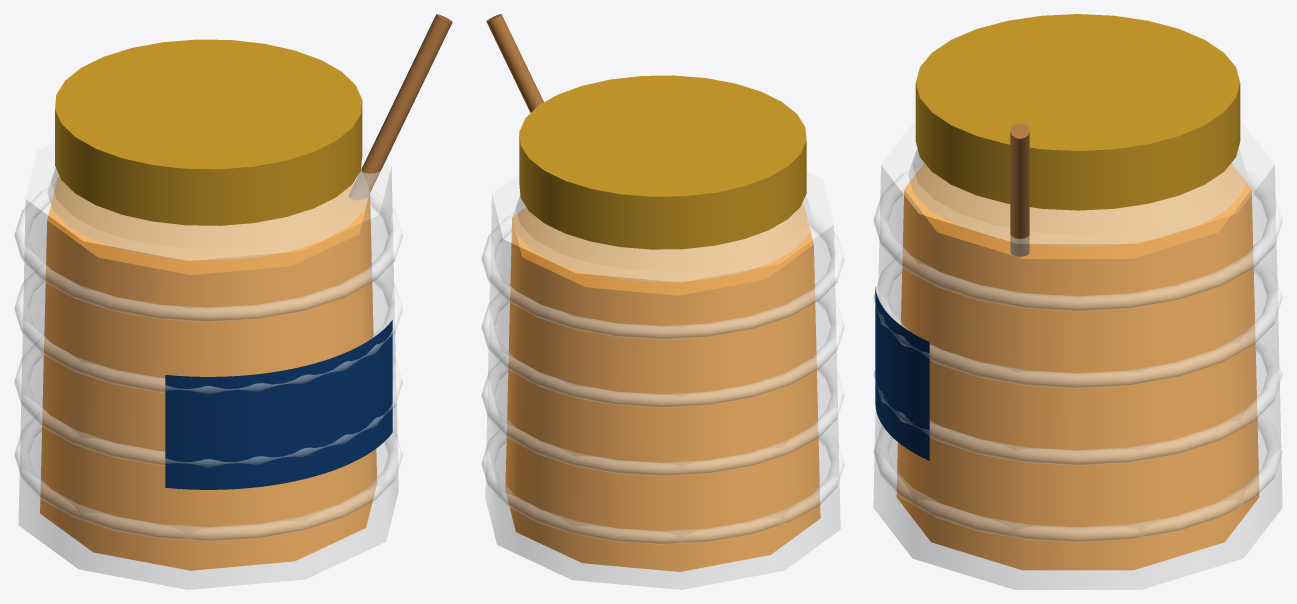
The model's file is honey-jar.glb.
3 views of the same model, side by side, from view 1: azimuth 30°, elevation 25°; view 2: azimuth 150°, elevation 25°; view 3: azimuth 270°, elevation 25° (orthographic). The views are drawn at different scales.
Visible parts, largest first — view 1: HoneyJar; view 2: HoneyJar; view 3: HoneyJar.
Part boxes in pixels (left/top/right/bottom): HoneyJar: left=14, top=14, right=452, bottom=589; HoneyJar: left=481, top=14, right=844, bottom=589; HoneyJar: left=873, top=14, right=1282, bottom=589.
Size of the model in its own units: 1.21 by 1.39 by 1.06.
